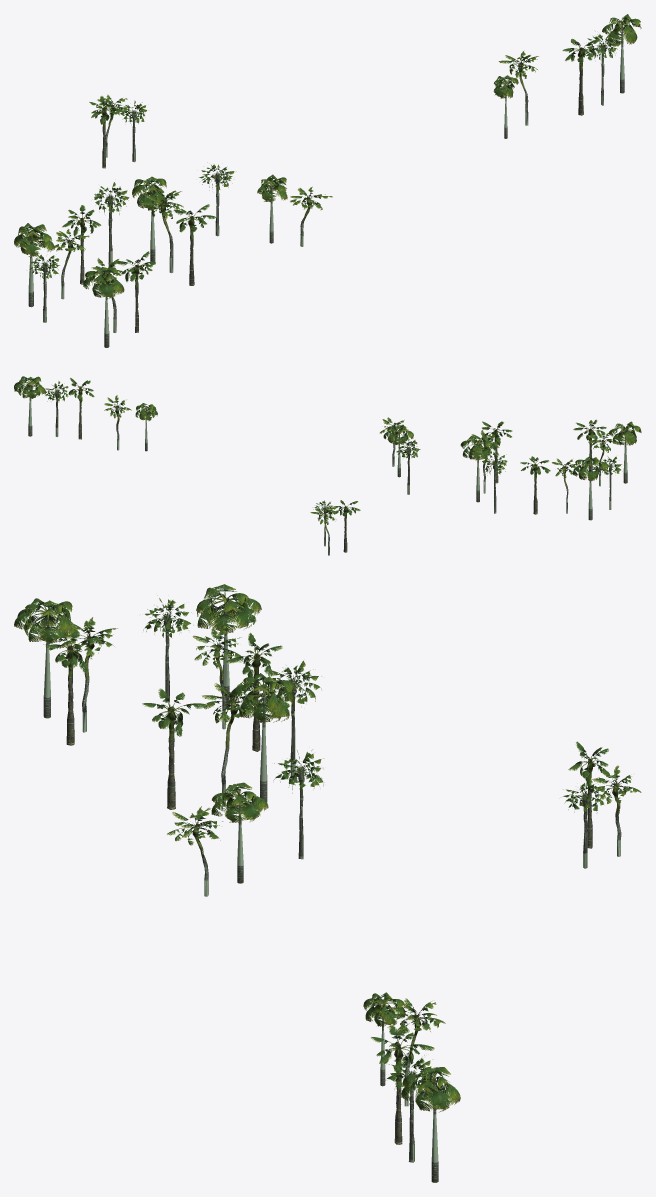
3 views of the same model, one above another, from view 1: azimuth 30°, elevation 25°; view 2: azimuth 150°, elevation 25°; view 3: azimuth 270°, elevation 25° (orthographic). The views are drawn at different scales.
Visible parts, largest first — view 1: Dragonfly Lake palm grove; view 2: Dragonfly Lake palm grove; view 3: Dragonfly Lake palm grove.
Part boxes in pixels (x1=…): Dragonfly Lake palm grove: x1=14, y1=14, x2=641, y2=347; Dragonfly Lake palm grove: x1=14, y1=376, x2=641, y2=555; Dragonfly Lake palm grove: x1=14, y1=584, x2=641, y2=1182.
Bounding box in the file's own units: 126 × 14.3 × 66.11.
1 material, 1 textured.
